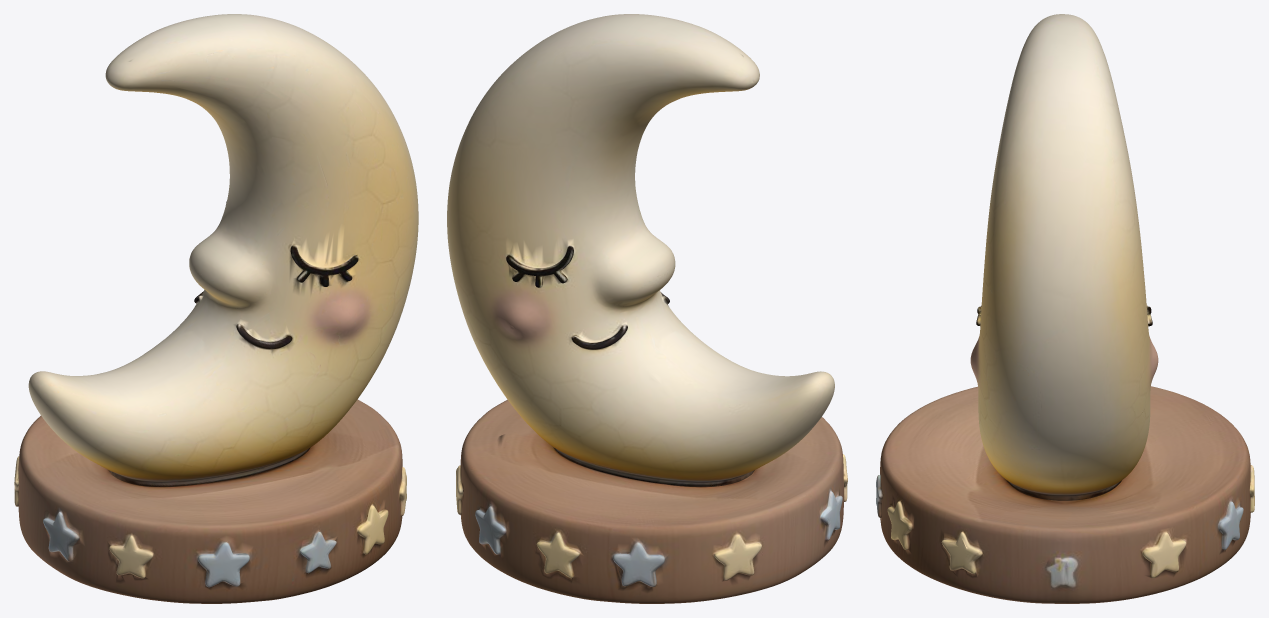
Rendered from moon.glb.
3 views of the same model, side by side, from view 1: azimuth 30°, elevation 25°; view 2: azimuth 150°, elevation 25°; view 3: azimuth 270°, elevation 25° (orthographic). The views are drawn at different scales.
Parts seen in each view (by area): view 1: node_0; view 2: node_0; view 3: node_0.
Boxes of the visible parts, box(x1,y1,x2,y2) form: node_0: box(14, 14, 418, 603); node_0: box(447, 14, 847, 603); node_0: box(876, 14, 1254, 603).
Bounding box in the file's own units: 0.7574 × 0.9868 × 0.6925.
1 material, 1 textured.
